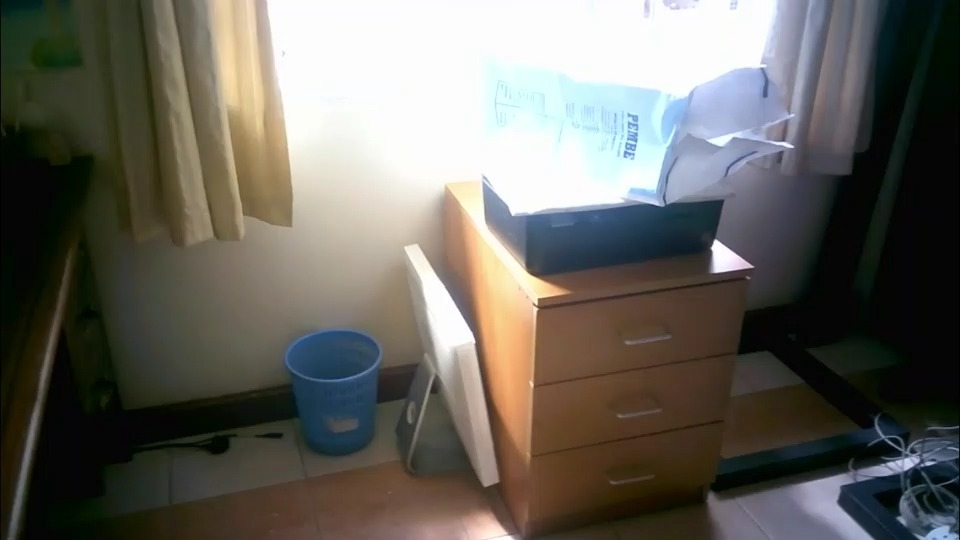wheat_flour_blue_label: (461, 57, 783, 197)
